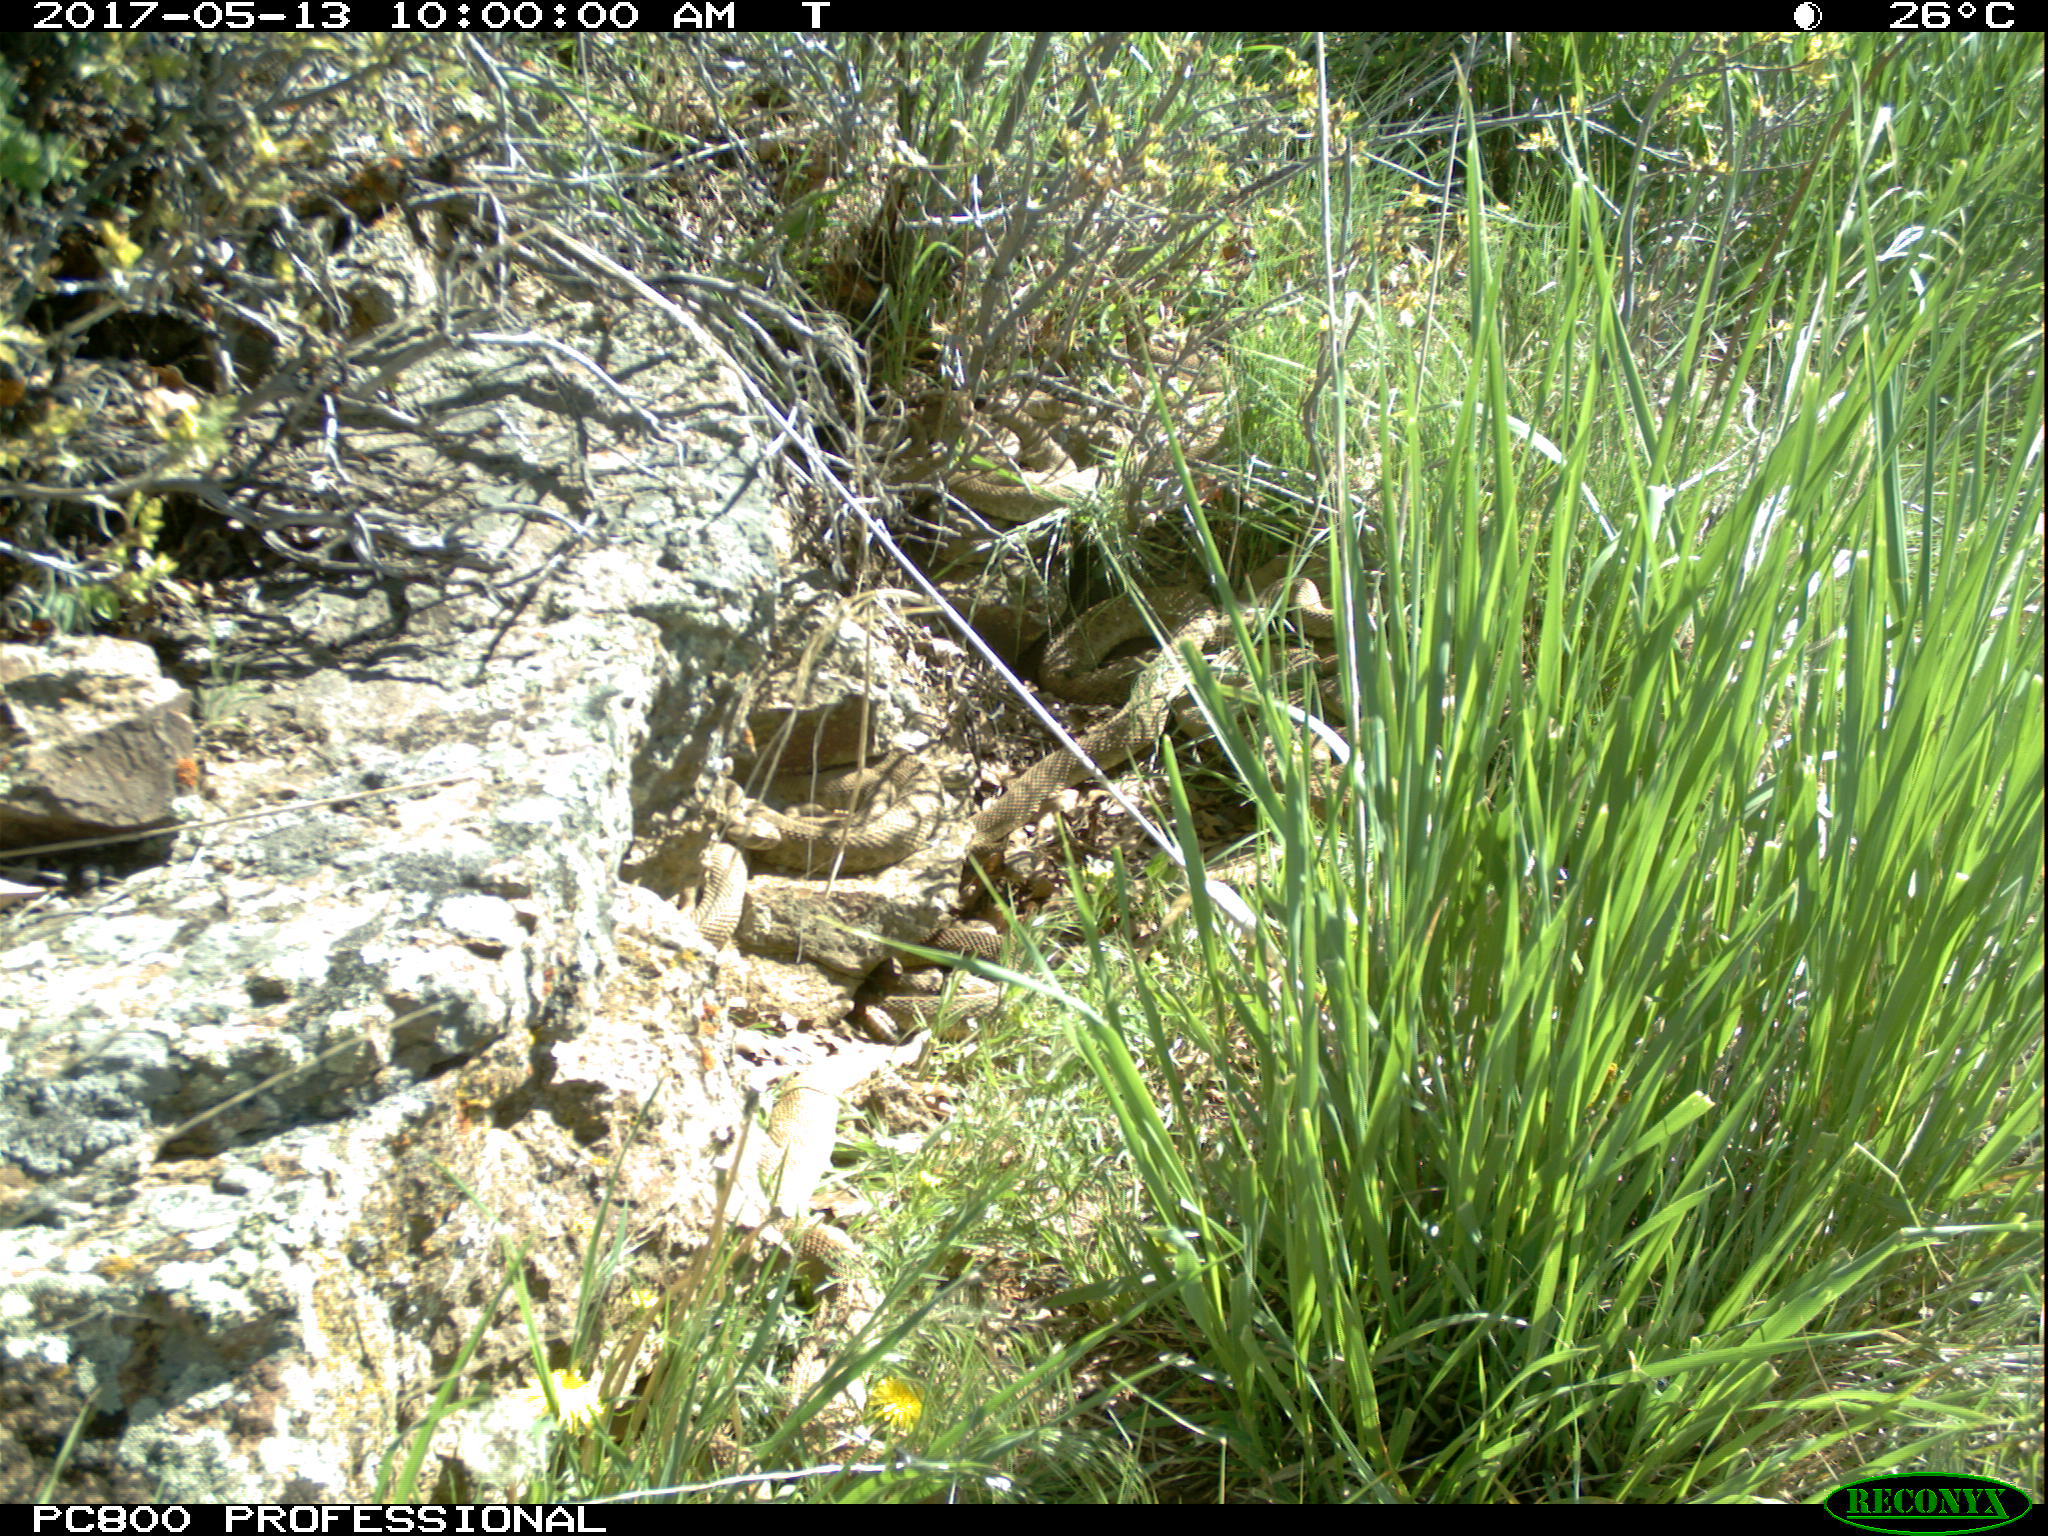snake: (982, 587, 1200, 849), (771, 1194, 887, 1455), (1056, 582, 1350, 674), (942, 386, 1137, 516), (682, 789, 948, 870), (892, 915, 1018, 1029), (682, 828, 751, 942)
